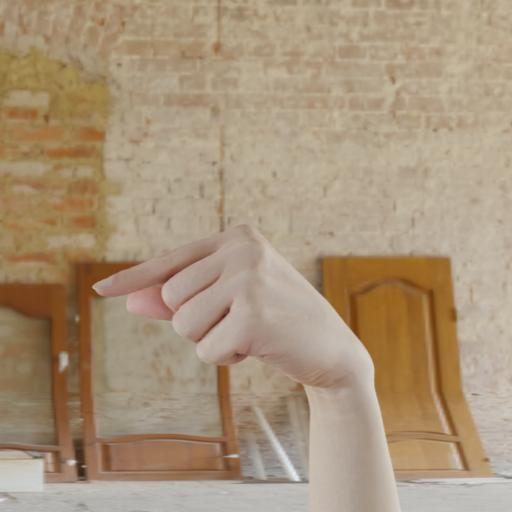G: (87, 215, 394, 384)
